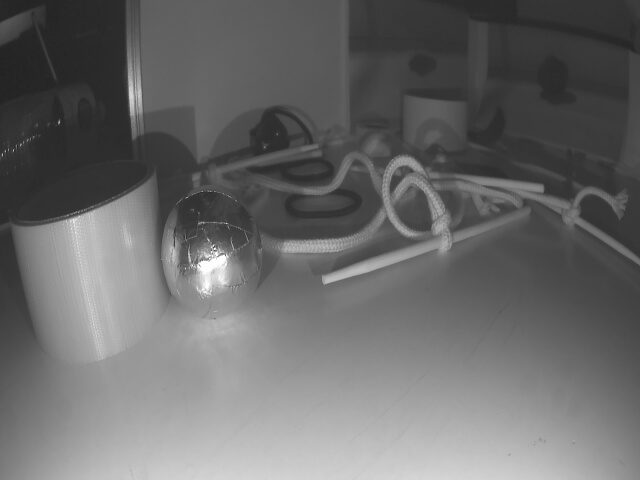Dead: (251, 113, 285, 154)
Live: (160, 195, 261, 316)
